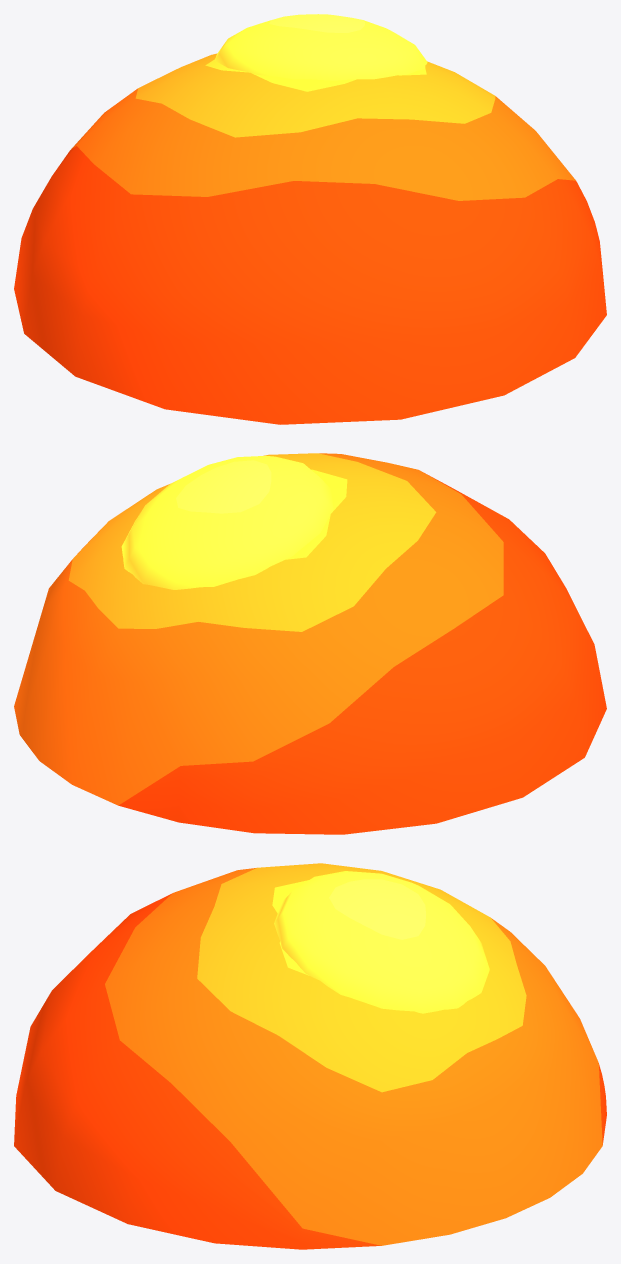
File: shot_fireball.glb
The picture shows the model from 3 angles, top to bottom: view 1: azimuth 30°, elevation 25°; view 2: azimuth 150°, elevation 25°; view 3: azimuth 270°, elevation 25°; orthographic projection.
Visible parts, largest first — view 1: shot_fireball_fire, shot_fireball_core; view 2: shot_fireball_fire, shot_fireball_core; view 3: shot_fireball_fire, shot_fireball_core.
Boxes of the visible parts, x1,y1,x2,y2 form: shot_fireball_fire: [14, 53, 606, 424]; shot_fireball_core: [214, 14, 427, 80]; shot_fireball_fire: [14, 453, 606, 834]; shot_fireball_core: [121, 455, 333, 589]; shot_fireball_fire: [14, 863, 606, 1249]; shot_fireball_core: [274, 871, 489, 1013].
Bounding box in the file's own units: 6.07 × 2.82 × 6.04.
